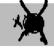not correct: (13, 0, 54, 46)
